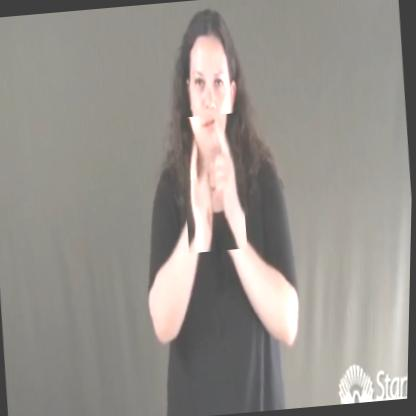NiceToMeetYou: (179, 113, 252, 253)
